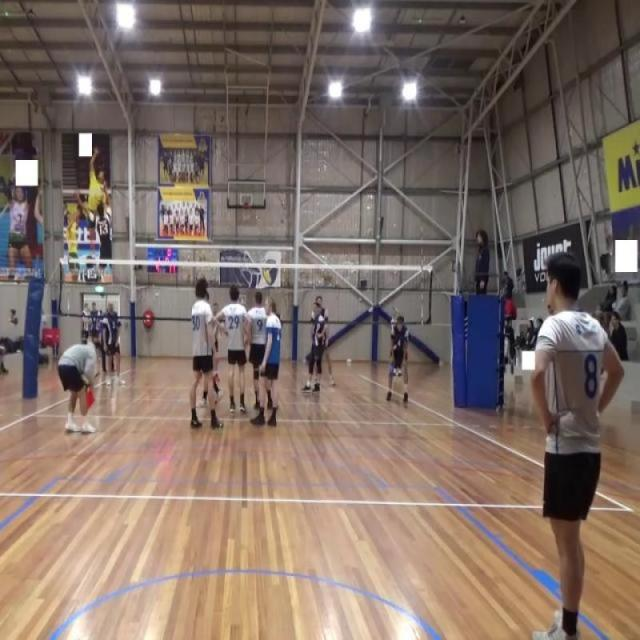volleyball: (81, 377, 92, 394)
